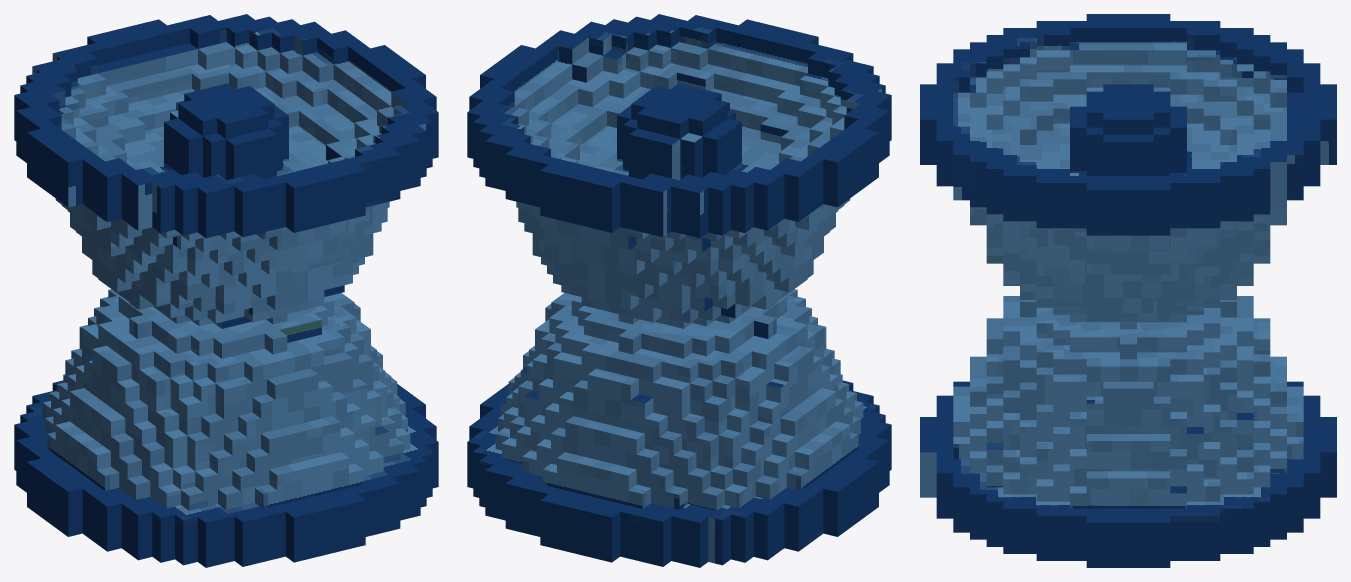
The model's file is yoyo.glb.
The picture shows the model from 3 angles, left to right: view 1: azimuth 30°, elevation 25°; view 2: azimuth 150°, elevation 25°; view 3: azimuth 270°, elevation 25°; orthographic projection.
Parts seen in each view (by area): view 1: yoo yoo ball_1.001; view 2: yoo yoo ball_1.001; view 3: yoo yoo ball_1.001.
Boxes of the visible parts, bbox=[...] form: yoo yoo ball_1.001: bbox=[14, 14, 438, 567]; yoo yoo ball_1.001: bbox=[467, 14, 891, 567]; yoo yoo ball_1.001: bbox=[920, 14, 1336, 567].
Size of the model in its own units: 2.5 by 2.5 by 2.5.
1 material, 1 textured.
